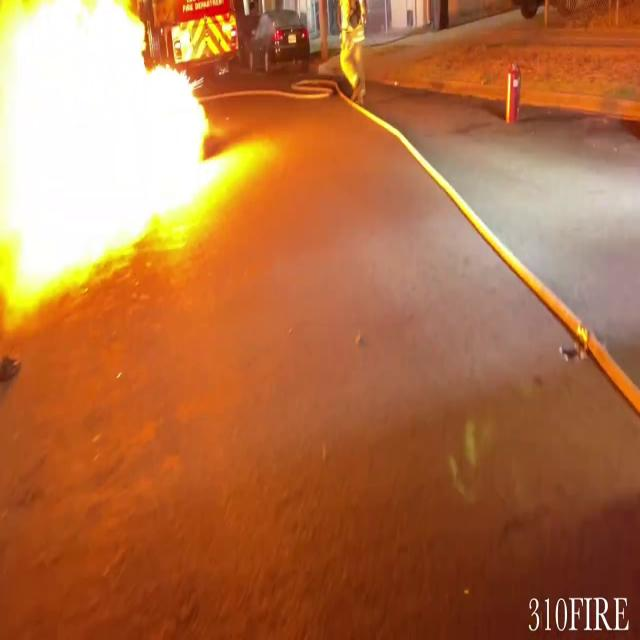Fire: (0, 0, 238, 305)
